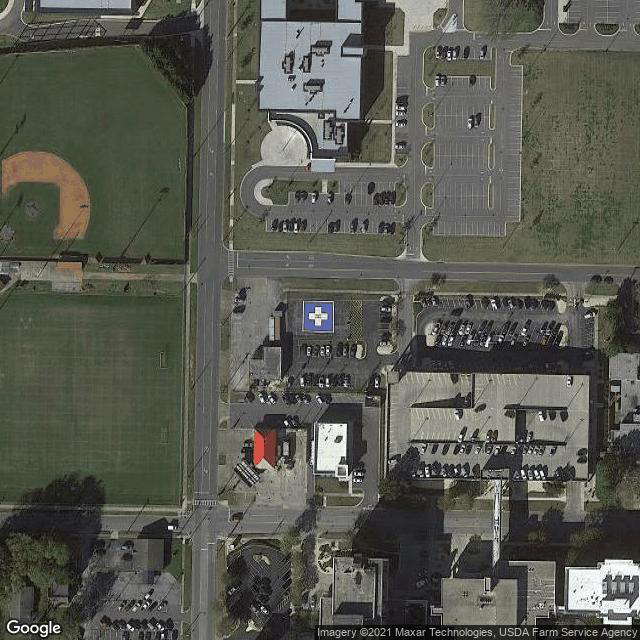Helipad: (302, 298, 336, 335)
